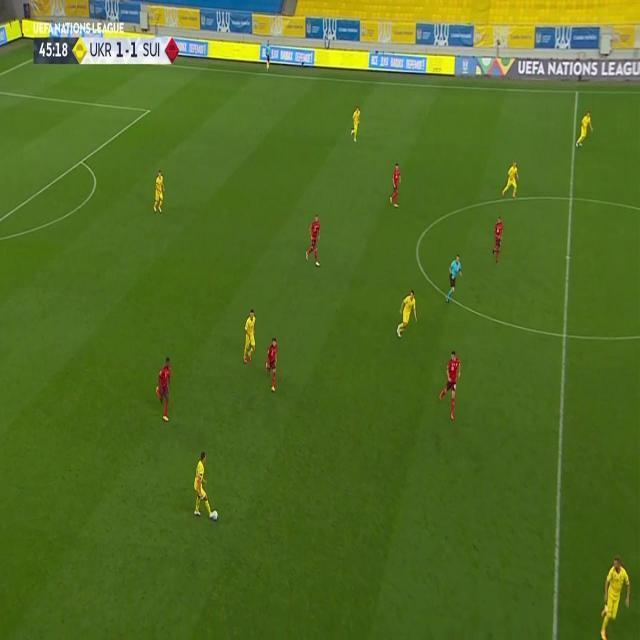ball: (212, 509, 218, 522)
player: (596, 555, 633, 640), (437, 350, 462, 420), (192, 453, 212, 520), (155, 356, 174, 424), (395, 289, 418, 341), (306, 213, 323, 270), (242, 309, 258, 366), (501, 158, 521, 200), (265, 337, 278, 393), (575, 111, 594, 149), (491, 217, 505, 267), (388, 160, 402, 210), (152, 170, 166, 215), (350, 106, 361, 142)
referee: (445, 254, 463, 304), (264, 39, 272, 74)
